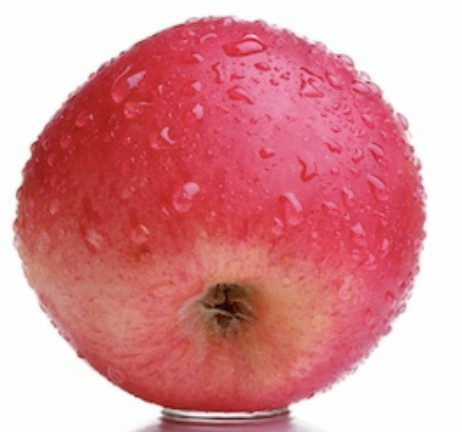fresh_apple: (14, 18, 427, 412)
